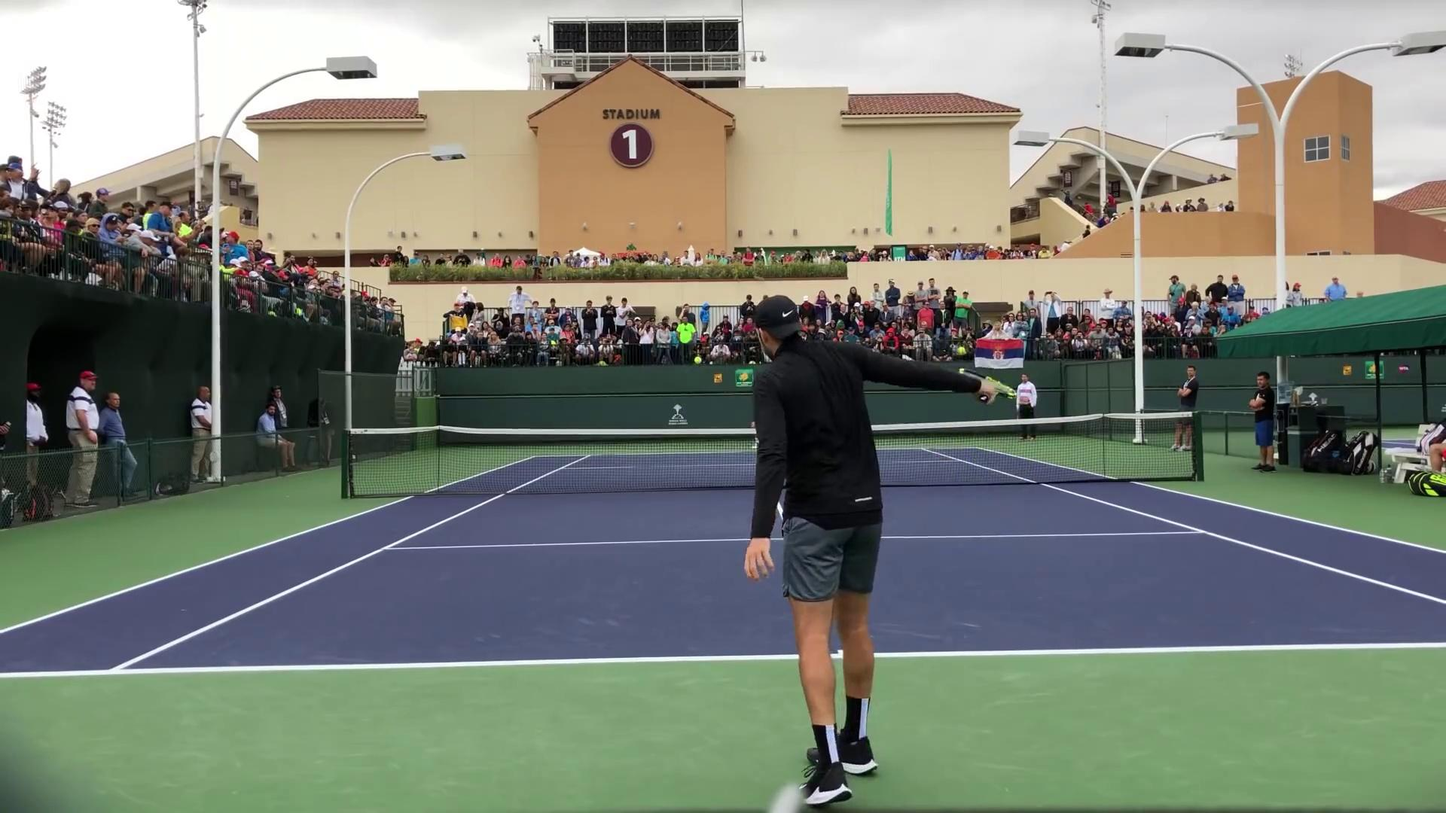ball: (692, 356, 703, 365)
